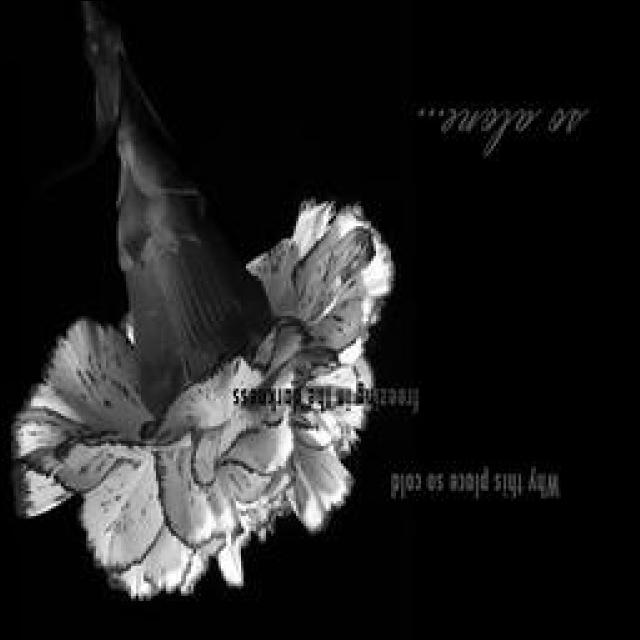carnation: (0, 193, 405, 602)
